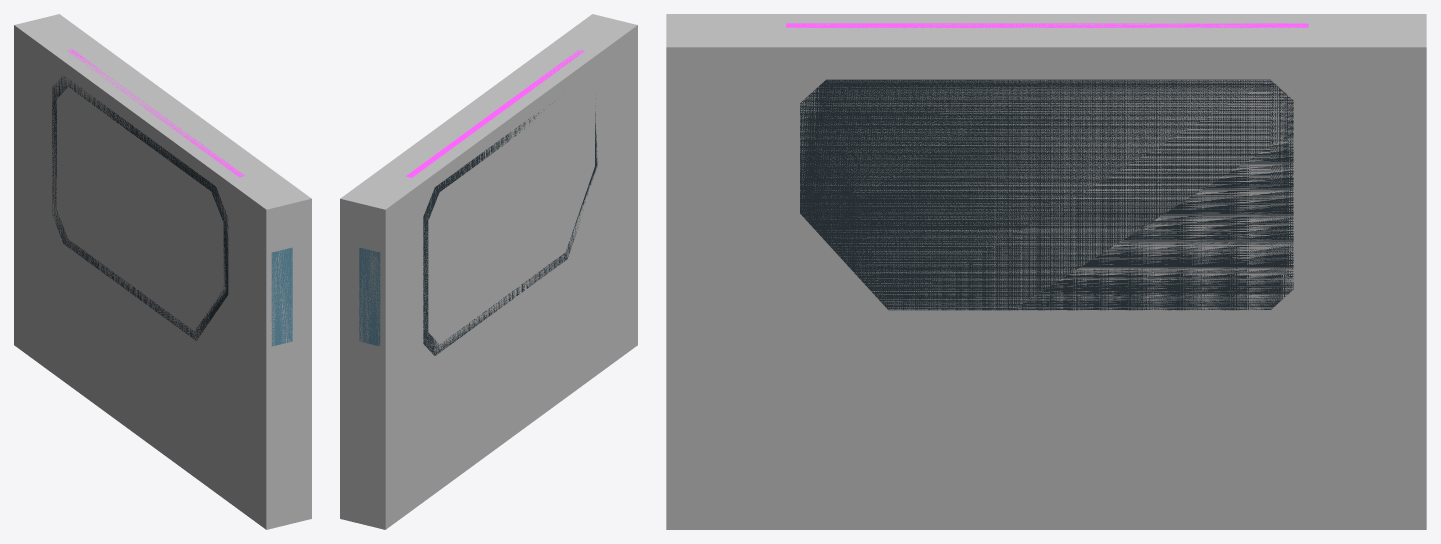
Rendered from SM_Billboard_03.fbx.
3 renders of one model, left to right at view 1: azimuth 30°, elevation 25°; view 2: azimuth 150°, elevation 25°; view 3: azimuth 270°, elevation 25°, orthographic. The views are drawn at different scales.
Visible parts, largest first — view 1: SM_Billboard_03_ConvexHulls, SM_Billboard_03; view 2: SM_Billboard_03_ConvexHulls, SM_Billboard_03; view 3: SM_Billboard_03_ConvexHulls, SM_Billboard_03.
Boxes of the visible parts, <box> form: SM_Billboard_03_ConvexHulls: <box>14,14,311,529</box>; SM_Billboard_03: <box>52,49,292,346</box>; SM_Billboard_03_ConvexHulls: <box>340,14,637,529</box>; SM_Billboard_03: <box>359,50,597,355</box>; SM_Billboard_03_ConvexHulls: <box>666,14,1426,529</box>; SM_Billboard_03: <box>786,23,1308,310</box>.
Bounding box in the file's own units: 47.28 × 456 × 319.
Materials: 2 (1 with a texture image).
